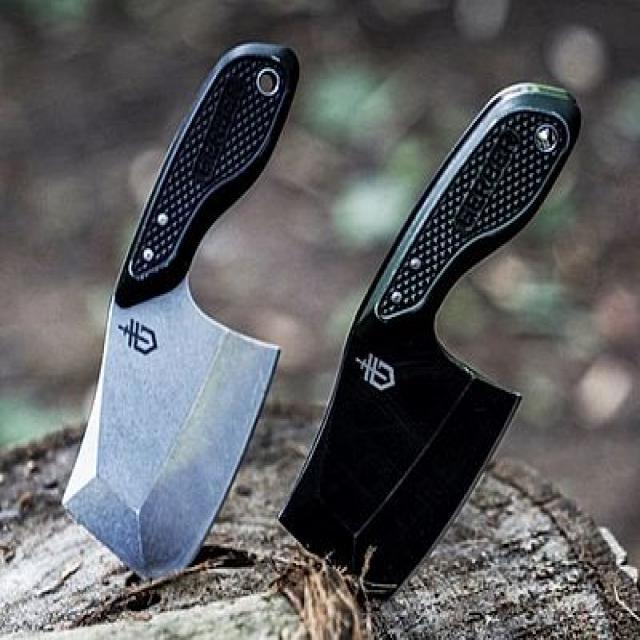cleaver: (286, 67, 580, 606)
